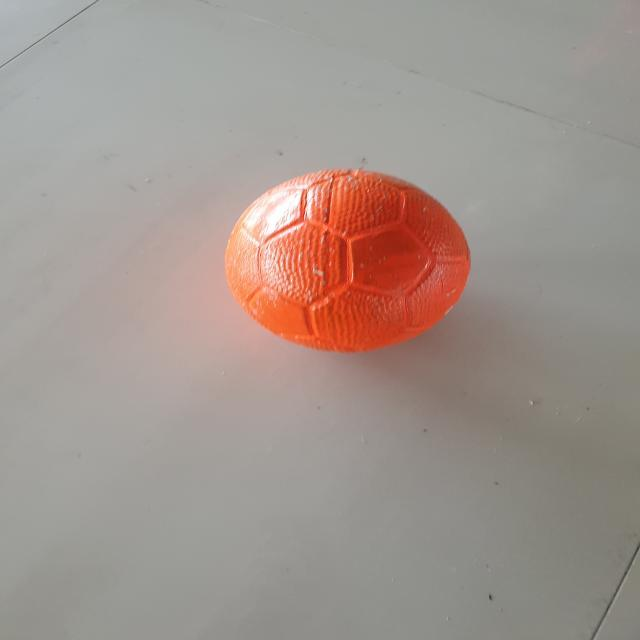bola: (211, 156, 487, 360)
